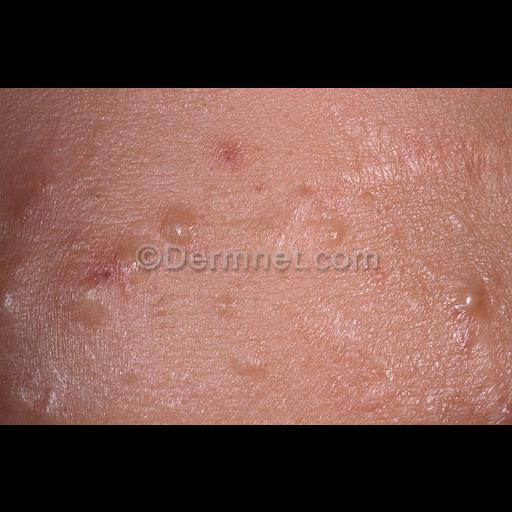Skin_Lesion: (58, 230, 142, 326), (248, 190, 350, 250), (6, 155, 54, 229), (442, 266, 490, 326), (209, 335, 269, 381), (16, 361, 60, 421), (154, 208, 204, 246), (210, 136, 248, 166)
